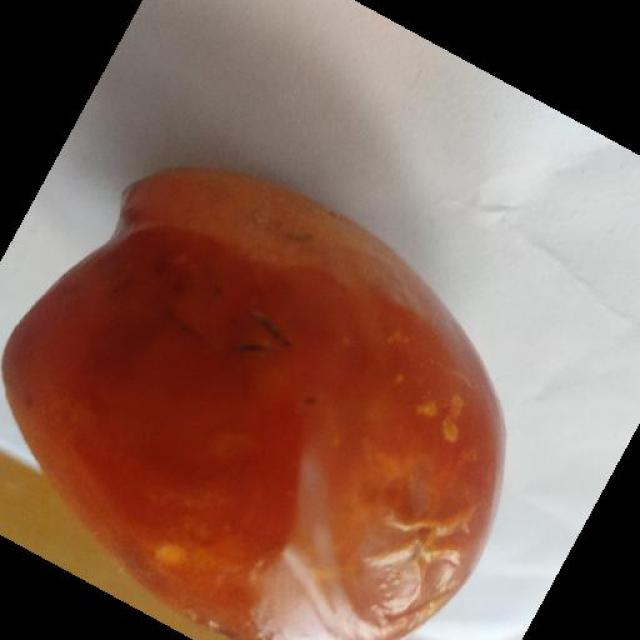Stale_tomato: (67, 158, 484, 640)
